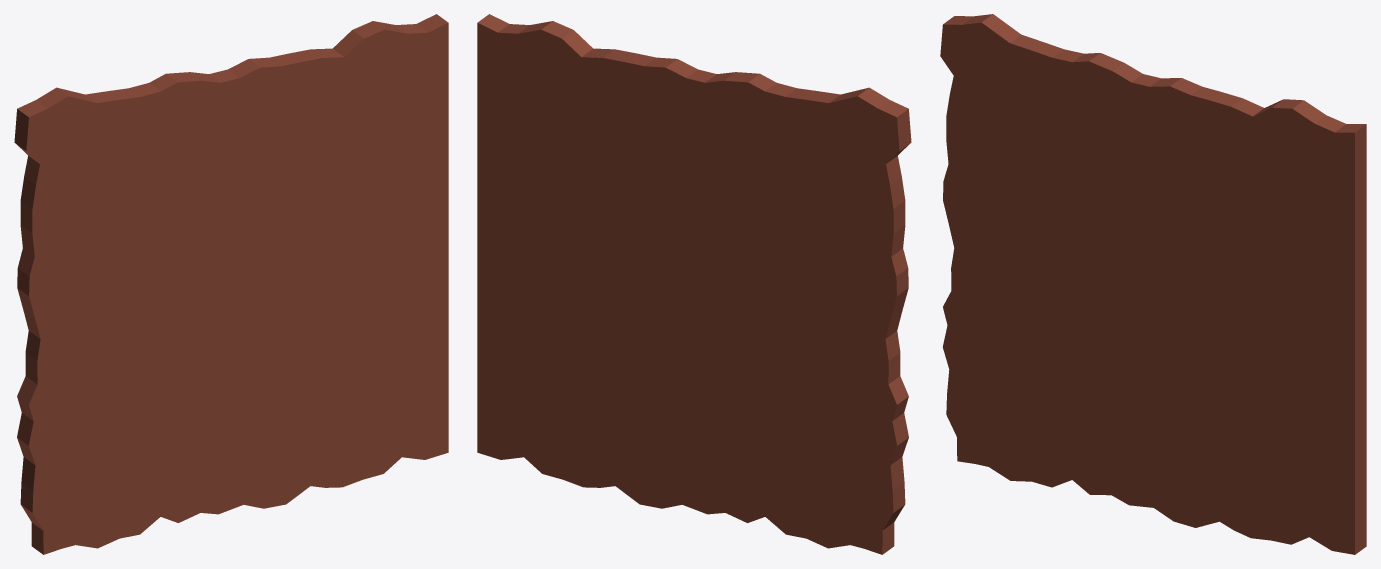
File: Tile13.glb
The picture shows the model from 3 angles, left to right: view 1: azimuth 30°, elevation 25°; view 2: azimuth 150°, elevation 25°; view 3: azimuth 330°, elevation 25°; orthographic projection.
Parts seen in each view (by area): view 1: 13; view 2: 13; view 3: 13.
Boxes of the visible parts, x1,y1,x2,y2 form: 13: [14, 14, 448, 554]; 13: [477, 14, 911, 554]; 13: [940, 14, 1366, 554].
Bounding box in the file's own units: 2.05 × 2.15 × 0.1.
1 material, 1 textured.
